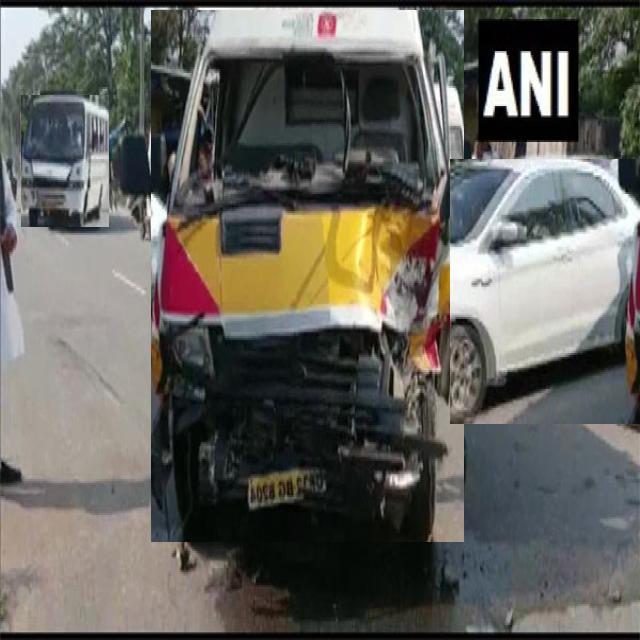accident: (151, 11, 464, 542)
bus: (21, 96, 109, 227)
car: (450, 160, 640, 424)
